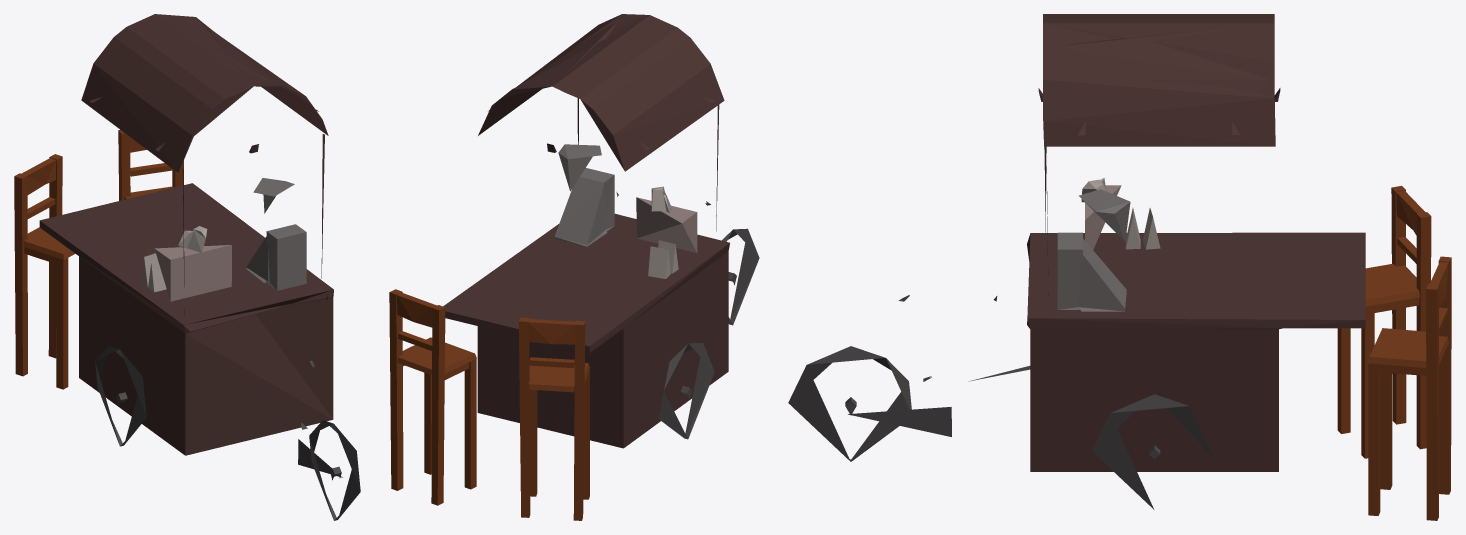
Rendered from coffee-cart.lod1.glb.
3 views of the same model, side by side, from view 1: azimuth 30°, elevation 25°; view 2: azimuth 150°, elevation 25°; view 3: azimuth 270°, elevation 25° (orthographic). The views are drawn at different scales.
Visible parts, largest first — view 1: bell_low_vehicle_0; view 2: bell_low_vehicle_0; view 3: bell_low_vehicle_0.
Part boxes in pixels (x1,y1,x2,y2): bell_low_vehicle_0: [14, 14, 360, 520]; bell_low_vehicle_0: [389, 14, 759, 520]; bell_low_vehicle_0: [788, 14, 1451, 520].
Bounding box in the file's own units: 0.8879 × 1.75 × 2.37.
